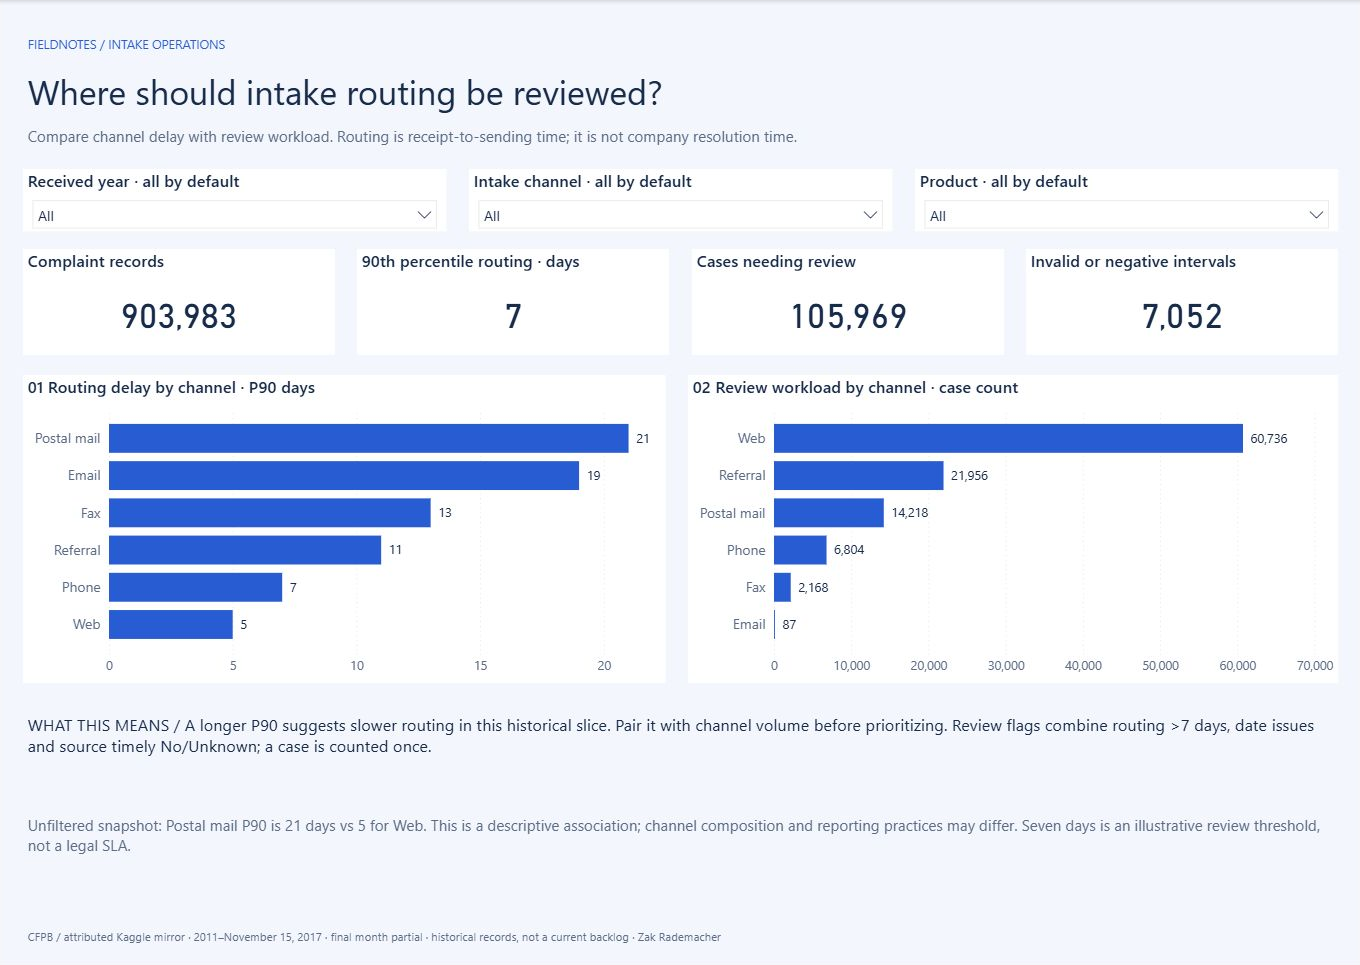

What the dashboard file says about the page in this screenshot:
{"tool":"powerbi","page":{"name":"01  Routing review","canvas":[1440,1000],"ordinal":0},"visuals":[{"type":"textbox","box":[24,12,1392,30],"z":0},{"type":"textbox","box":[24,46,1392,58],"z":0},{"type":"textbox","box":[24,107,1392,45],"z":0},{"type":"slicer","title":"Received year · all by default","fields":{"Values":["Cases.Year"]},"box":[24,158,448,66],"z":0},{"type":"slicer","title":"Intake channel · all by default","fields":{"Values":["Cases.Channel"]},"box":[496,158,448,66],"z":0},{"type":"slicer","title":"Product · all by default","fields":{"Values":["Cases.Product"]},"box":[968,158,448,66],"z":0},{"type":"card","title":"Complaint records","fields":{"Values":["Cases.Cases"]},"box":[24,242,330,112],"z":0},{"type":"card","title":"90th percentile routing · days","fields":{"Values":["Cases.P90 Routing Days"]},"box":[378,242,330,112],"z":0},{"type":"card","title":"Cases needing review","fields":{"Values":["Cases.Review Cases"]},"box":[732,242,330,112],"z":0},{"type":"card","title":"Invalid or negative intervals","fields":{"Values":["Cases.Date Issues"]},"box":[1086,242,330,112],"z":0},{"type":"clusteredBarChart","title":"01  Routing delay by channel · P90 days","fields":{"Category":["Cases.Channel"],"Y":["Cases.P90 Routing Days"]},"box":[24,376,680,326],"z":0},{"type":"clusteredBarChart","title":"02  Review workload by channel · case count","fields":{"Category":["Cases.Channel"],"Y":["Cases.Review Cases"]},"box":[728,376,688,326],"z":0},{"type":"textbox","box":[24,728,1392,88],"z":0},{"type":"textbox","box":[24,836,1392,76],"z":0},{"type":"textbox","box":[24,956,1392,32],"z":0}]}

Visuals, with their boxes in screenshot pixels (x1, y1, x2, y2), scaled from the page's 1440x1000 canvas onto the 1360x965 screenshot:
textbox: bbox=[23, 12, 1337, 41]
textbox: bbox=[23, 44, 1337, 100]
textbox: bbox=[23, 103, 1337, 147]
"Received year · all by default" slicer: bbox=[23, 152, 446, 216]
"Intake channel · all by default" slicer: bbox=[468, 152, 892, 216]
"Product · all by default" slicer: bbox=[914, 152, 1337, 216]
"Complaint records" card: bbox=[23, 234, 334, 342]
"90th percentile routing · days" card: bbox=[357, 234, 669, 342]
"Cases needing review" card: bbox=[691, 234, 1003, 342]
"Invalid or negative intervals" card: bbox=[1026, 234, 1337, 342]
"01  Routing delay by channel · P90 days" clusteredBarChart: bbox=[23, 363, 665, 677]
"02  Review workload by channel · case count" clusteredBarChart: bbox=[688, 363, 1337, 677]
textbox: bbox=[23, 703, 1337, 787]
textbox: bbox=[23, 807, 1337, 880]
textbox: bbox=[23, 923, 1337, 953]
